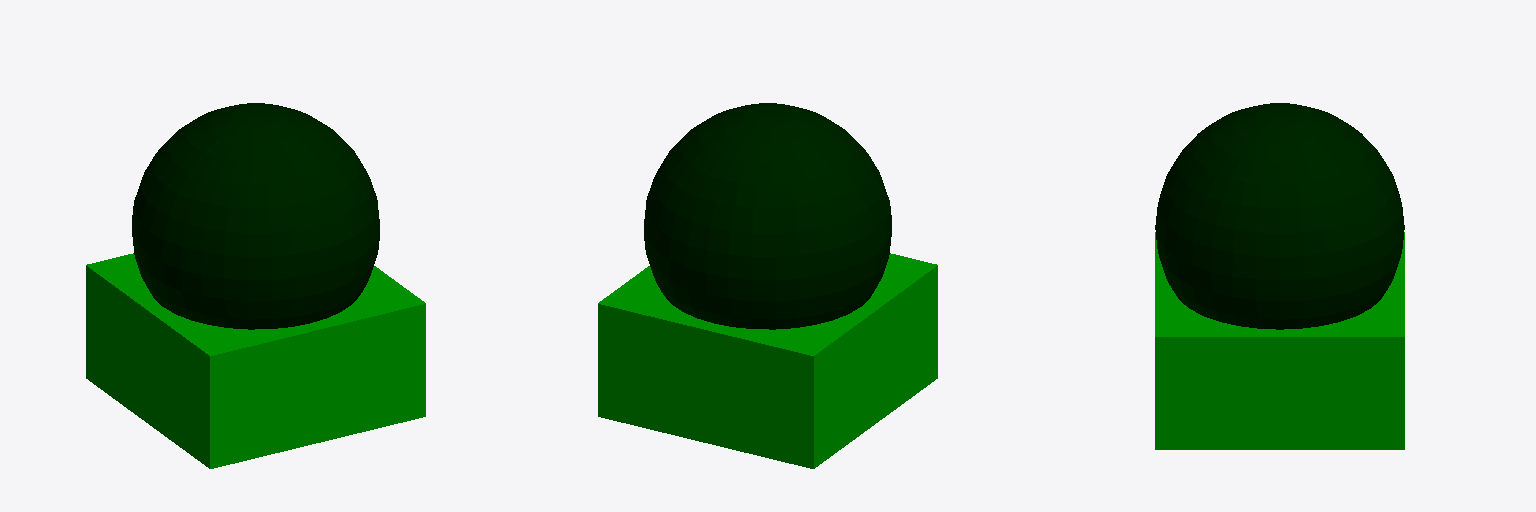
Rendered from LargeBush.obj.
3 views of the same model, side by side, from view 1: azimuth 30°, elevation 25°; view 2: azimuth 150°, elevation 25°; view 3: azimuth 270°, elevation 25° (orthographic).
Parts seen in each view (by area): view 1: Cube; view 2: Cube; view 3: Cube.
Part boxes in pixels (x1,y1,x2,y2): Cube: (86,103,425,468); Cube: (598,103,937,468); Cube: (1155,103,1404,449).
Size of the model in its own units: 4 by 5 by 4.